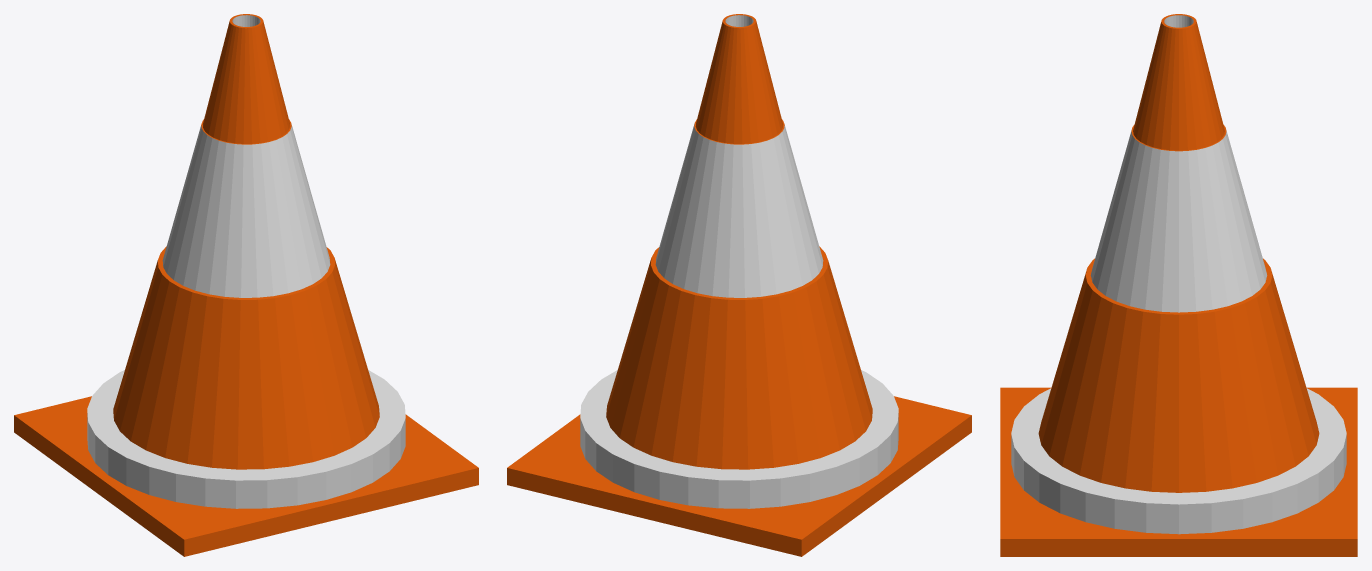
Rendered from konus.fbx.
3 renders of one model, left to right at view 1: azimuth 30°, elevation 25°; view 2: azimuth 150°, elevation 25°; view 3: azimuth 270°, elevation 25°, orthographic. The views are drawn at different scales.
Visible parts, largest first — view 1: Cylinder, Cube; view 2: Cylinder, Cube; view 3: Cylinder, Cube.
Part boxes in pixels (<box>): Cylinder: <box>87,14,405,508</box>; Cube: <box>14,396,478,556</box>; Cylinder: <box>580,14,898,508</box>; Cube: <box>507,396,971,556</box>; Cylinder: <box>1011,14,1346,534</box>; Cube: <box>1000,387,1357,556</box>.
Size of the model in its own units: 200 by 284 by 200.
